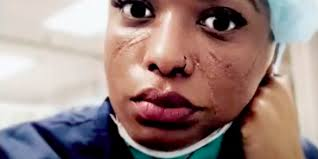mask_weared_incorrect: (108, 1, 248, 157)
